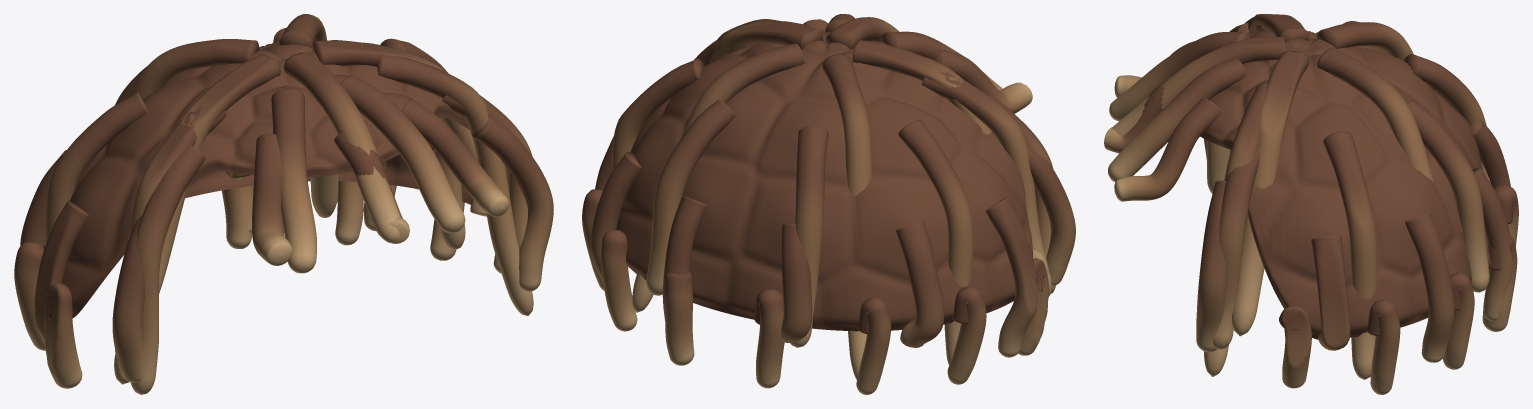
Rendered from Ombre-1ee73f66b1e4253-hair.glb.
The picture shows the model from 3 angles, left to right: view 1: azimuth 30°, elevation 25°; view 2: azimuth 150°, elevation 25°; view 3: azimuth 270°, elevation 25°; orthographic projection. The views are drawn at different scales.
Visible parts, largest first — view 1: 226 hair / Hair252 / sectioned locs.001; view 2: 226 hair / Hair252 / sectioned locs.001; view 3: 226 hair / Hair252 / sectioned locs.001.
Boxes of the visible parts, <box> form: 226 hair / Hair252 / sectioned locs.001: <box>14,14,553,394</box>; 226 hair / Hair252 / sectioned locs.001: <box>582,14,1075,394</box>; 226 hair / Hair252 / sectioned locs.001: <box>1104,14,1518,394</box>.
Size of the model in its own units: 1.07 by 0.6347 by 0.8956.
Materials: 1 (1 with a texture image).
